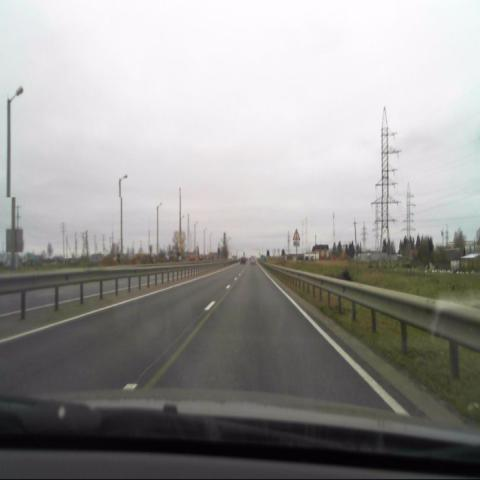1_8: (292, 229, 300, 239)
